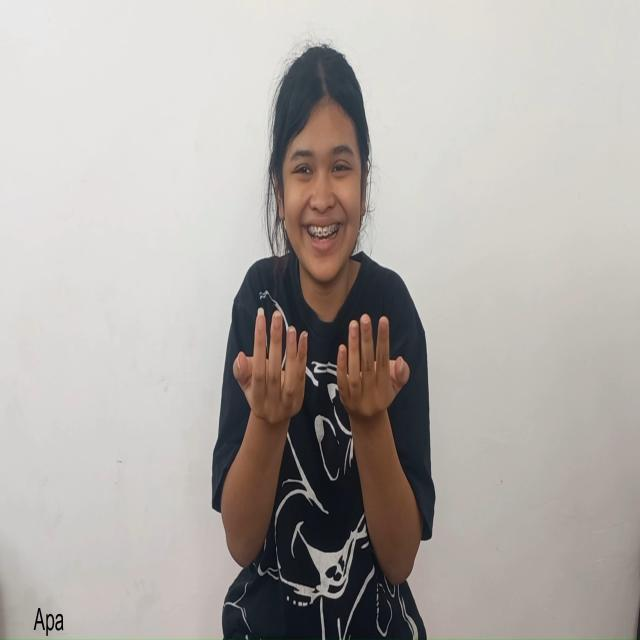Apa -BISINDO-: (212, 276, 434, 592)
